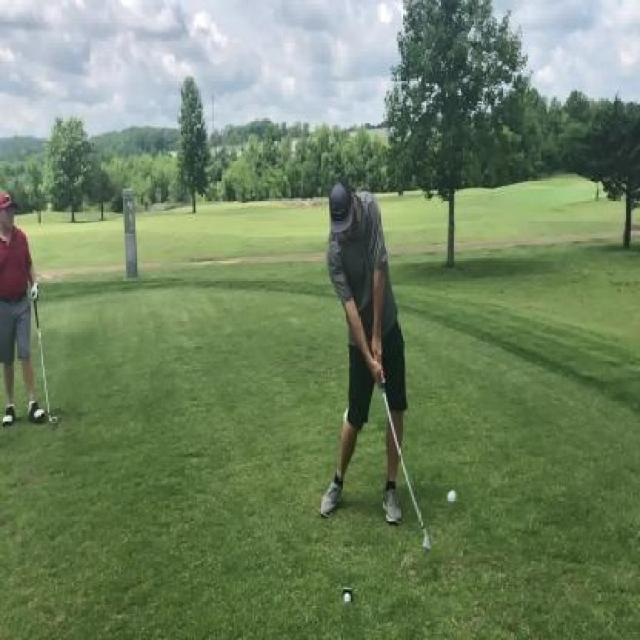club head: (421, 524, 432, 551)
